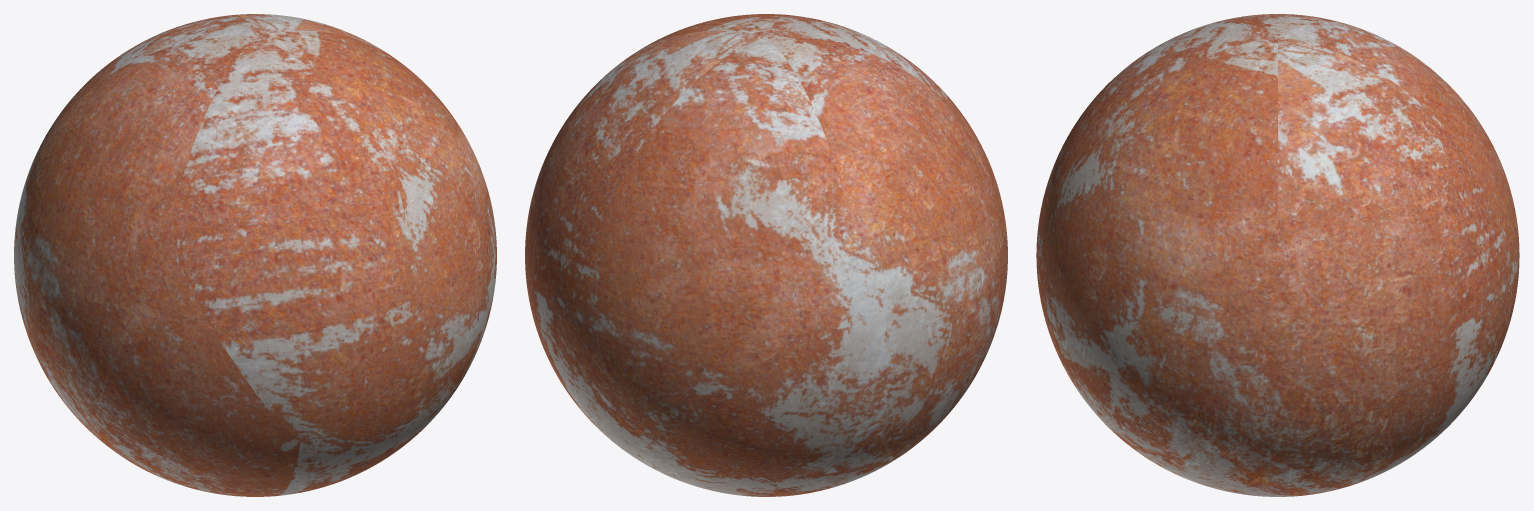
3 views of the same model, side by side, from view 1: azimuth 30°, elevation 25°; view 2: azimuth 150°, elevation 25°; view 3: azimuth 270°, elevation 25° (orthographic).
Visible parts, largest first — view 1: Icosphere; view 2: Icosphere; view 3: Icosphere.
Boxes of the visible parts, x1,y1,x2,y2 form: Icosphere: (14,14,496,496); Icosphere: (525,14,1007,496); Icosphere: (1036,14,1519,496).
Size of the model in its own units: 2 by 2 by 2.
